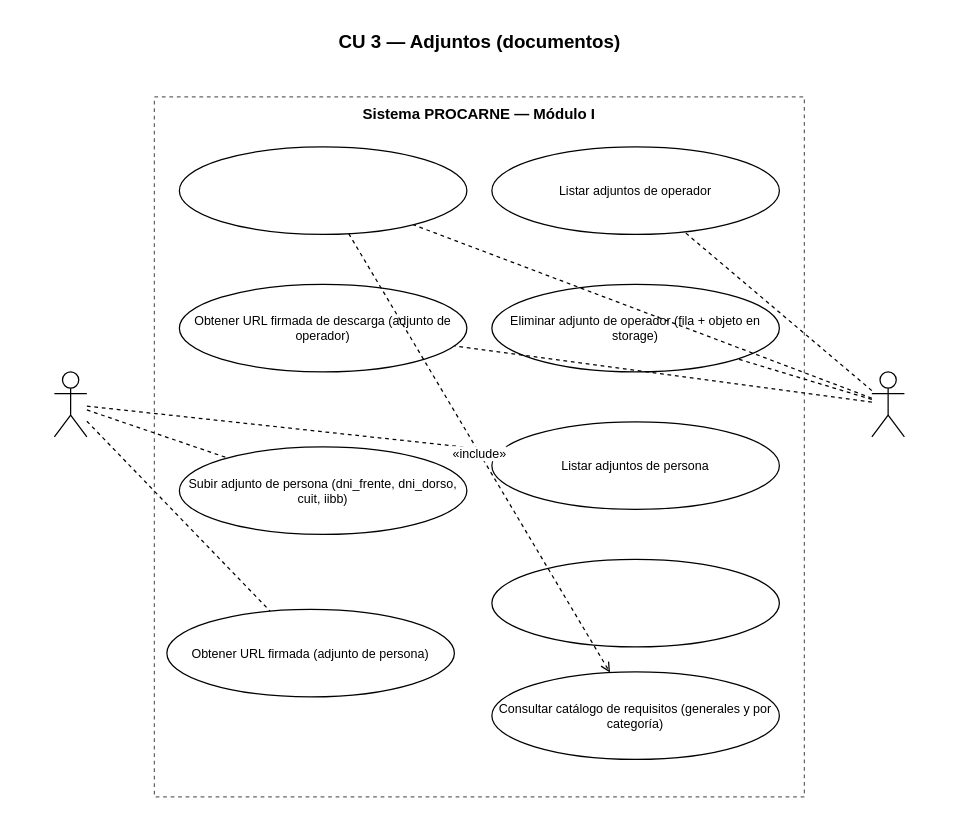
This 966x819 diagram has some shape labels left out. The centre of each missing label's shape, as x and y in pixels:
"Eliminar adjunto de persona" goes at point (635, 602).
"Persona (titular)" goes at point (70, 404).
"Subir adjunto de operador (JPG/PNG/PDF ≤ 10 MB; valida requisito vs. categoría)" goes at point (322, 190).
"Supervisor / Admin" goes at point (887, 404).
